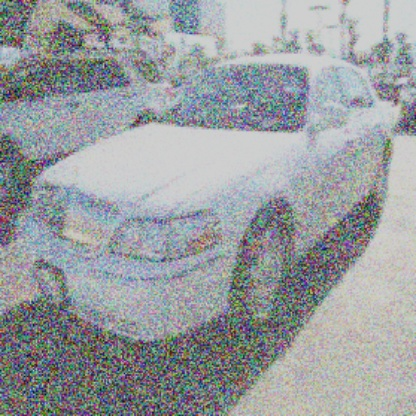Vehicle: (9, 47, 414, 356)
